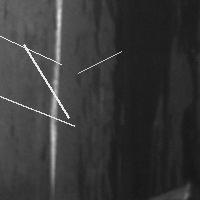scratches: (83, 1, 185, 196), (19, 40, 74, 123), (45, 1, 66, 194), (0, 89, 79, 131), (0, 26, 66, 69), (73, 46, 126, 78)
